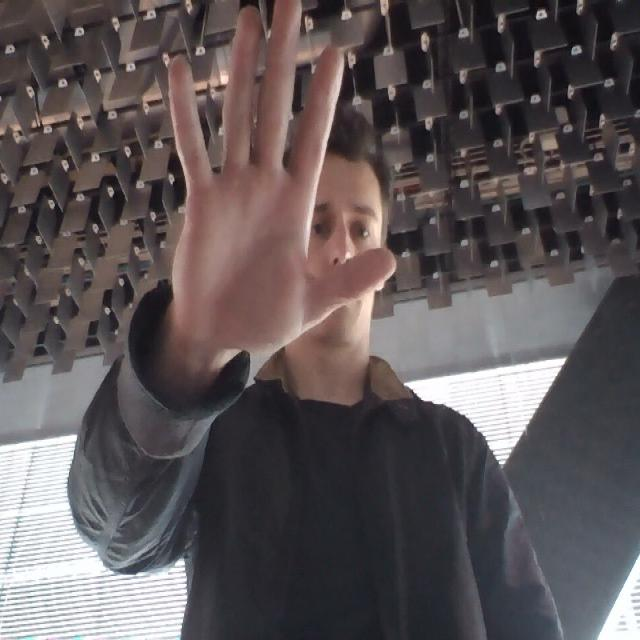backward: (130, 4, 424, 357)
